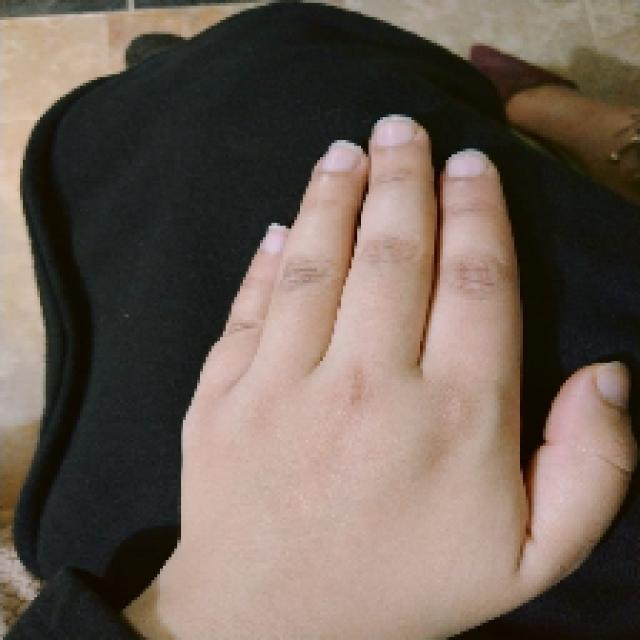Nail: (595, 360, 630, 409), (376, 116, 415, 148), (445, 151, 489, 179), (326, 141, 363, 172), (265, 225, 289, 255)
